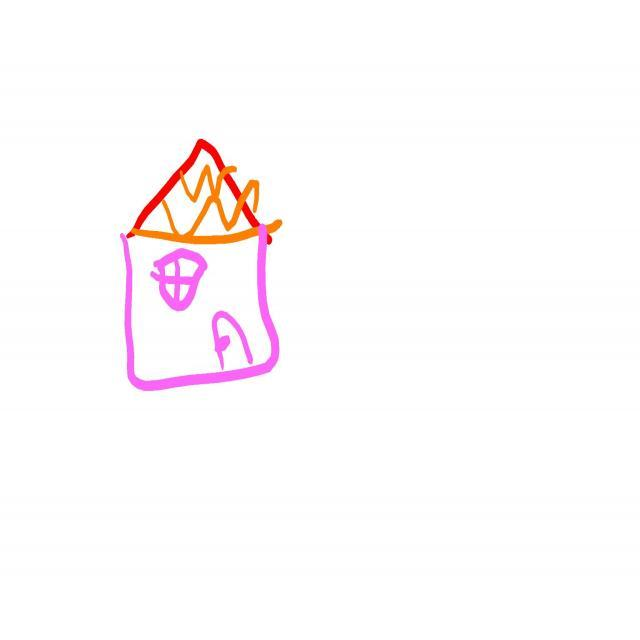door: (213, 311, 253, 370)
house: (121, 139, 282, 391)
roof: (125, 136, 274, 245)
wall: (123, 226, 276, 390)
window: (150, 248, 207, 310)
